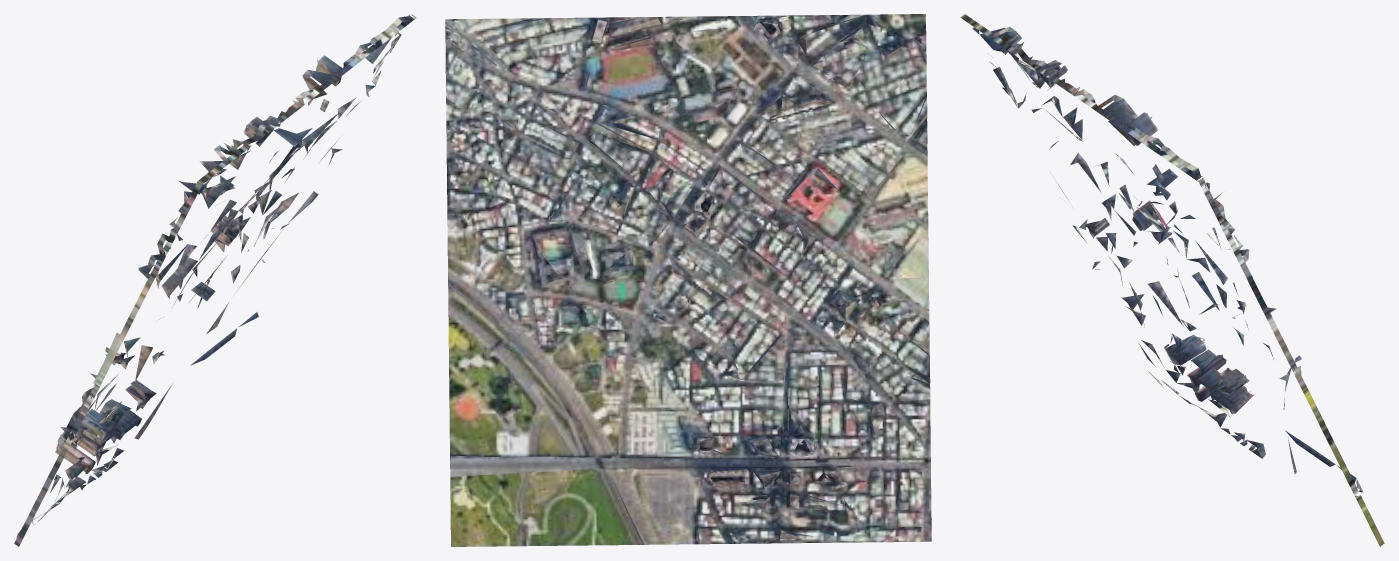
3 views of the same model, side by side, from view 1: azimuth 30°, elevation 25°; view 2: azimuth 150°, elevation 25°; view 3: azimuth 270°, elevation 25° (orthographic). The views are drawn at different scales.
Size of the model in its own units: 1222 by 1132 by 1031.
2 materials, 2 textured.
